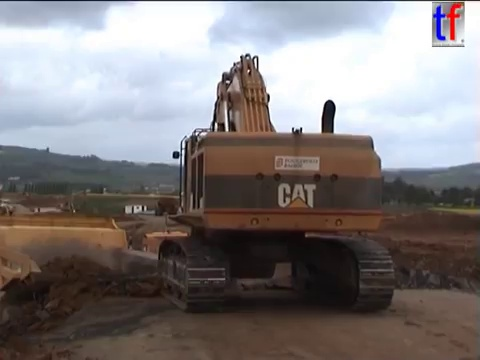excavator: (154, 50, 397, 314), (55, 188, 93, 214)
truck: (1, 213, 183, 335), (126, 228, 236, 293), (1, 197, 16, 217)
